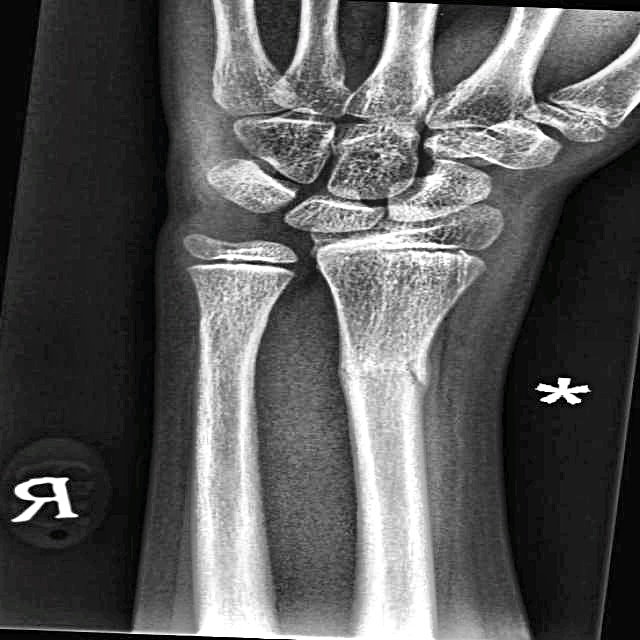Greenstick: (344, 333, 466, 412)
